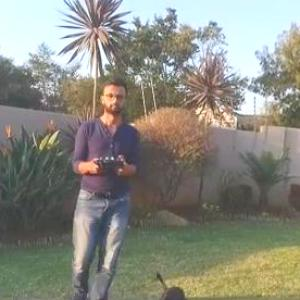follow: (61, 81, 140, 299)
